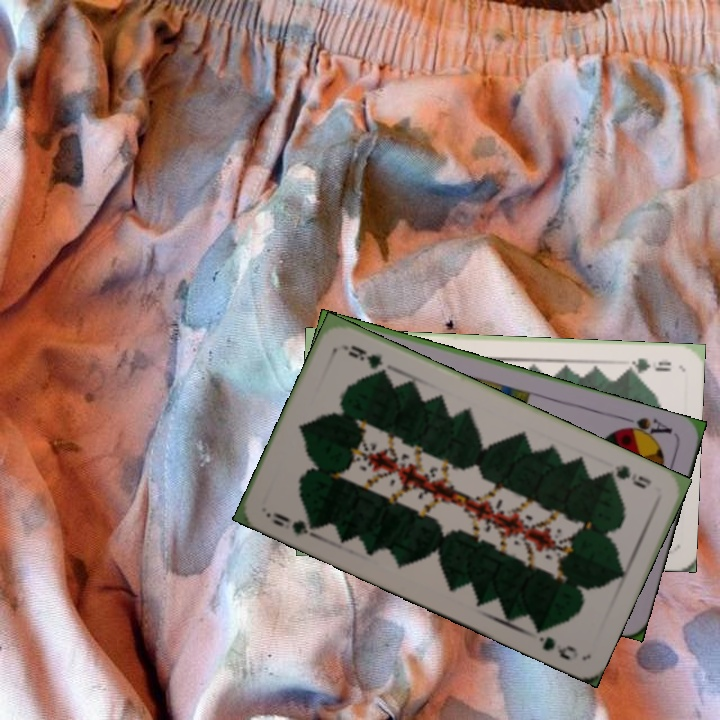G9: (261, 508, 322, 541), (601, 461, 654, 492), (619, 354, 674, 375)
SA: (615, 412, 675, 443)
